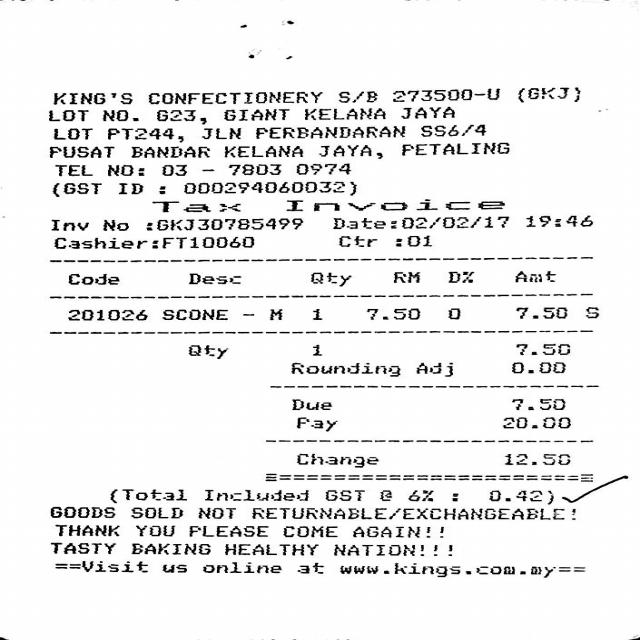text: (338, 562, 556, 578), (284, 198, 503, 211), (147, 90, 321, 104), (183, 181, 355, 195), (332, 216, 508, 229), (254, 125, 404, 138), (144, 218, 302, 230), (402, 509, 568, 520), (290, 362, 400, 376), (250, 508, 385, 519), (332, 544, 452, 556), (400, 142, 508, 155), (392, 88, 498, 101), (203, 488, 307, 501), (296, 452, 378, 467), (159, 236, 252, 249), (63, 308, 147, 322), (222, 543, 317, 555), (351, 525, 442, 537), (106, 128, 182, 142), (303, 107, 384, 120), (110, 489, 185, 503), (152, 200, 238, 212), (53, 237, 144, 248), (517, 86, 579, 102), (504, 452, 573, 466), (498, 416, 572, 429), (129, 542, 209, 554), (129, 146, 208, 158), (52, 92, 130, 104), (224, 145, 302, 157), (202, 561, 280, 573), (154, 309, 227, 321), (319, 144, 381, 158), (189, 525, 267, 536), (48, 541, 114, 554), (486, 489, 543, 504), (76, 560, 146, 572), (54, 523, 118, 536), (221, 108, 288, 120), (418, 124, 485, 136), (63, 272, 120, 286), (510, 361, 567, 375), (47, 146, 113, 158), (525, 215, 591, 227), (155, 109, 205, 124), (295, 162, 350, 175), (515, 343, 570, 356), (49, 506, 113, 517), (399, 105, 453, 118), (50, 182, 100, 196), (511, 398, 566, 410), (281, 525, 336, 537), (415, 362, 455, 378), (516, 306, 569, 318), (187, 273, 243, 284), (293, 416, 336, 430), (226, 164, 280, 175), (367, 309, 421, 320), (186, 344, 228, 358), (130, 507, 181, 518), (307, 272, 350, 285), (292, 398, 330, 412), (337, 234, 376, 247), (386, 270, 421, 284), (336, 90, 376, 102), (47, 109, 87, 121), (200, 126, 240, 138), (514, 270, 554, 282), (52, 164, 90, 176), (444, 270, 476, 284), (100, 109, 137, 121), (50, 218, 87, 230), (197, 506, 234, 518), (107, 164, 143, 176), (52, 128, 90, 139), (393, 235, 430, 246), (136, 525, 173, 536), (325, 490, 363, 500), (160, 163, 185, 176), (407, 489, 434, 501), (295, 562, 322, 574), (116, 182, 142, 194), (102, 218, 127, 230), (160, 564, 185, 573), (444, 307, 461, 320), (584, 307, 599, 319), (268, 308, 282, 320), (307, 309, 322, 320), (310, 343, 322, 356), (380, 490, 390, 500)
